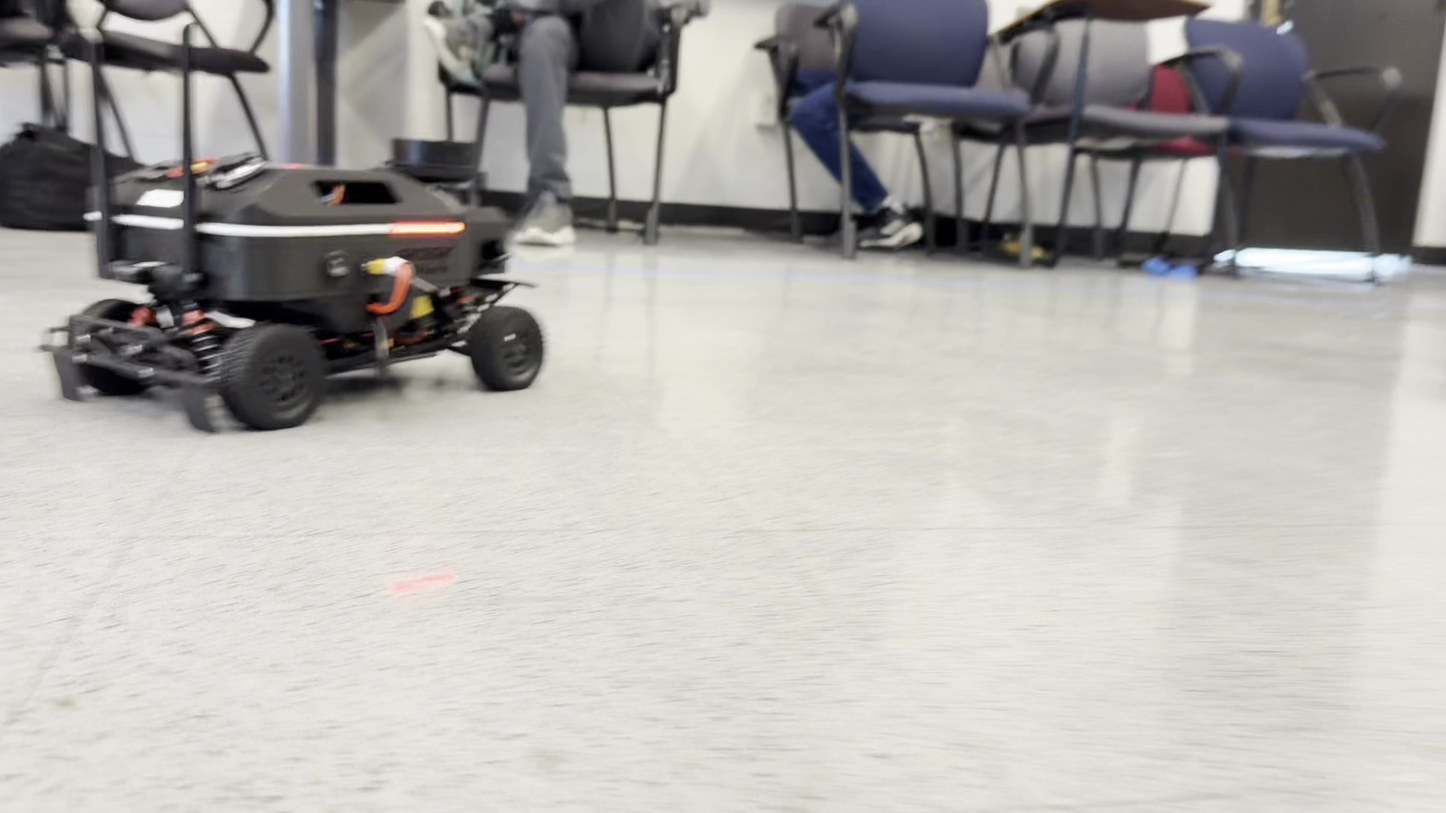racecar: (42, 156, 547, 432)
